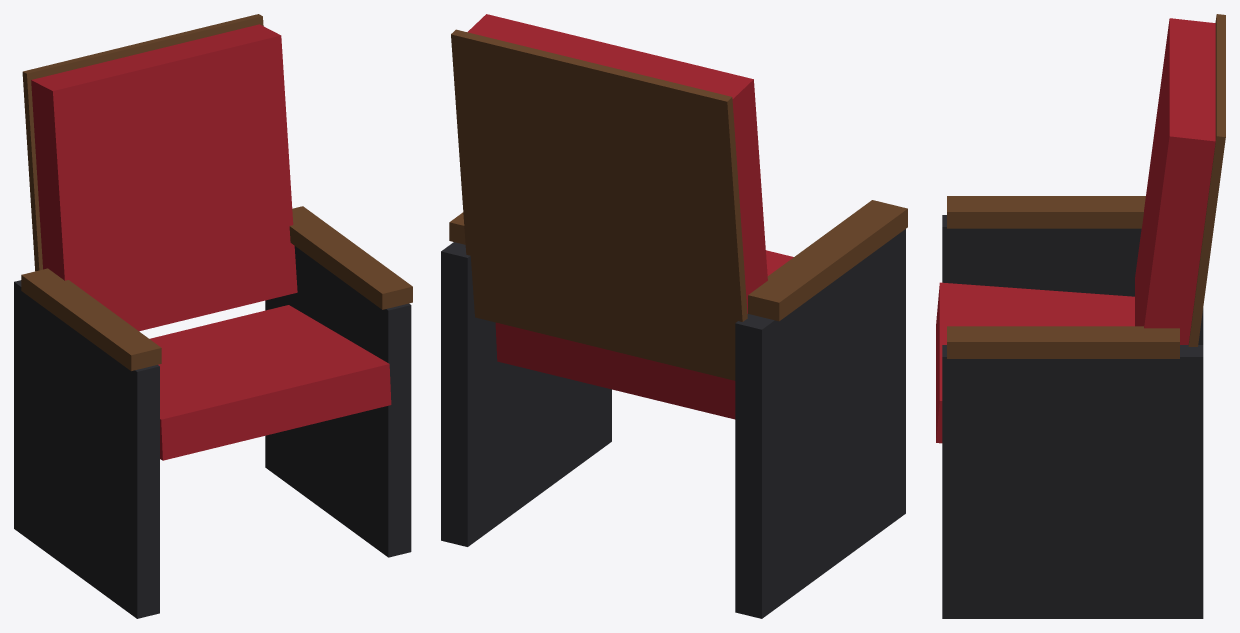
Rendered from cinema_seat.glb.
3 views of the same model, side by side, from view 1: azimuth 30°, elevation 25°; view 2: azimuth 150°, elevation 25°; view 3: azimuth 270°, elevation 25° (orthographic). The views are drawn at different scales.
Visible parts, largest first — view 1: back_seat_velvet, side_seat_iron, seat_seat_velvet, arm_seat_wood, back_wood_seat_wood; view 2: back_wood_seat_wood, side_seat_iron, back_seat_velvet, seat_seat_velvet, arm_seat_wood; view 3: side_seat_iron, back_seat_velvet, arm_seat_wood, seat_seat_velvet, back_wood_seat_wood.
Part boxes in pixels (box(x1,y1,x2,y2)): back_seat_velvet: box(31, 24, 297, 331); side_seat_iron: box(14, 246, 411, 618); seat_seat_velvet: box(150, 305, 391, 460); arm_seat_wood: box(21, 206, 412, 371); back_wood_seat_wood: box(22, 14, 263, 271); back_wood_seat_wood: box(451, 29, 747, 380); side_seat_iron: box(441, 229, 905, 618); back_seat_velvet: box(467, 14, 767, 313); seat_seat_velvet: box(495, 250, 793, 419); arm_seat_wood: box(449, 200, 907, 321); side_seat_iron: box(942, 215, 1203, 618); back_seat_velvet: box(1135, 18, 1215, 344); arm_seat_wood: box(947, 196, 1179, 358); seat_seat_velvet: box(936, 282, 1134, 443); back_wood_seat_wood: box(1188, 14, 1225, 346).
Bounding box in the file's own units: 0.74 × 1.12 × 0.6215.
